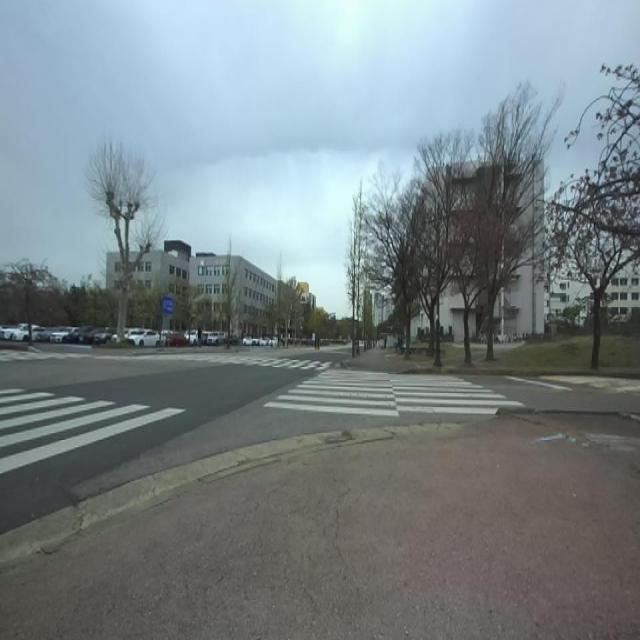sidewalk: (0, 415, 640, 639), (340, 346, 390, 372)
